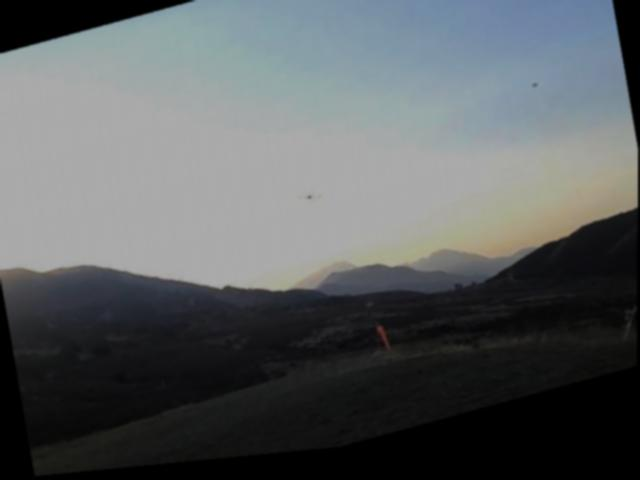iha: (294, 186, 323, 213)
